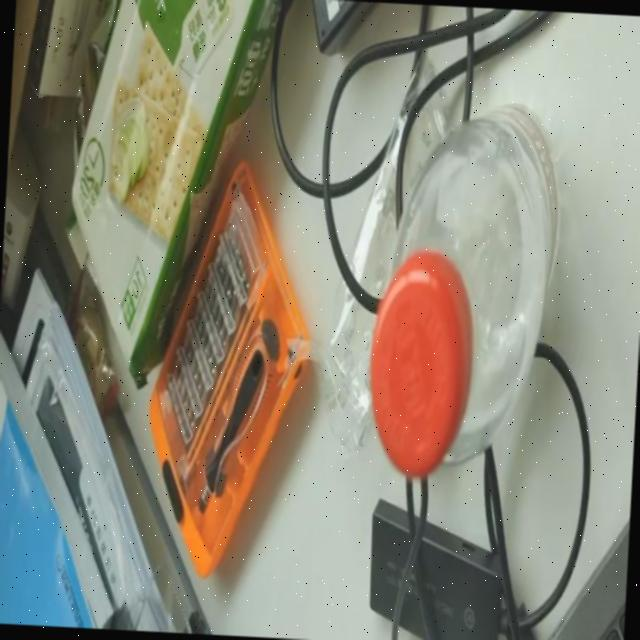bottle: (364, 96, 564, 494)
cap: (369, 248, 477, 481)
